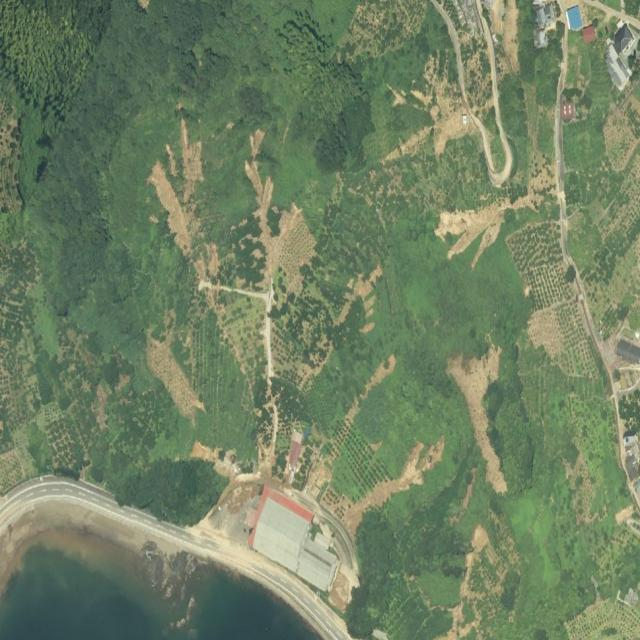landslide: (193, 258, 273, 383), (448, 345, 507, 491), (147, 118, 203, 255), (458, 48, 505, 184), (436, 198, 513, 267), (441, 200, 514, 265), (494, 64, 513, 166), (246, 160, 266, 217), (147, 340, 166, 376), (250, 128, 264, 158)
